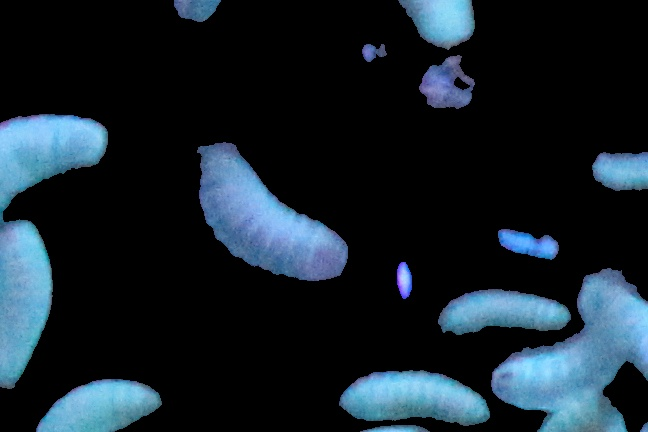larvae: (195, 143, 347, 280), (1, 105, 110, 247), (493, 340, 629, 411), (1, 224, 54, 389), (341, 372, 493, 423), (579, 270, 648, 381), (27, 378, 163, 432), (433, 289, 570, 337), (399, 1, 485, 48), (588, 139, 648, 198)
